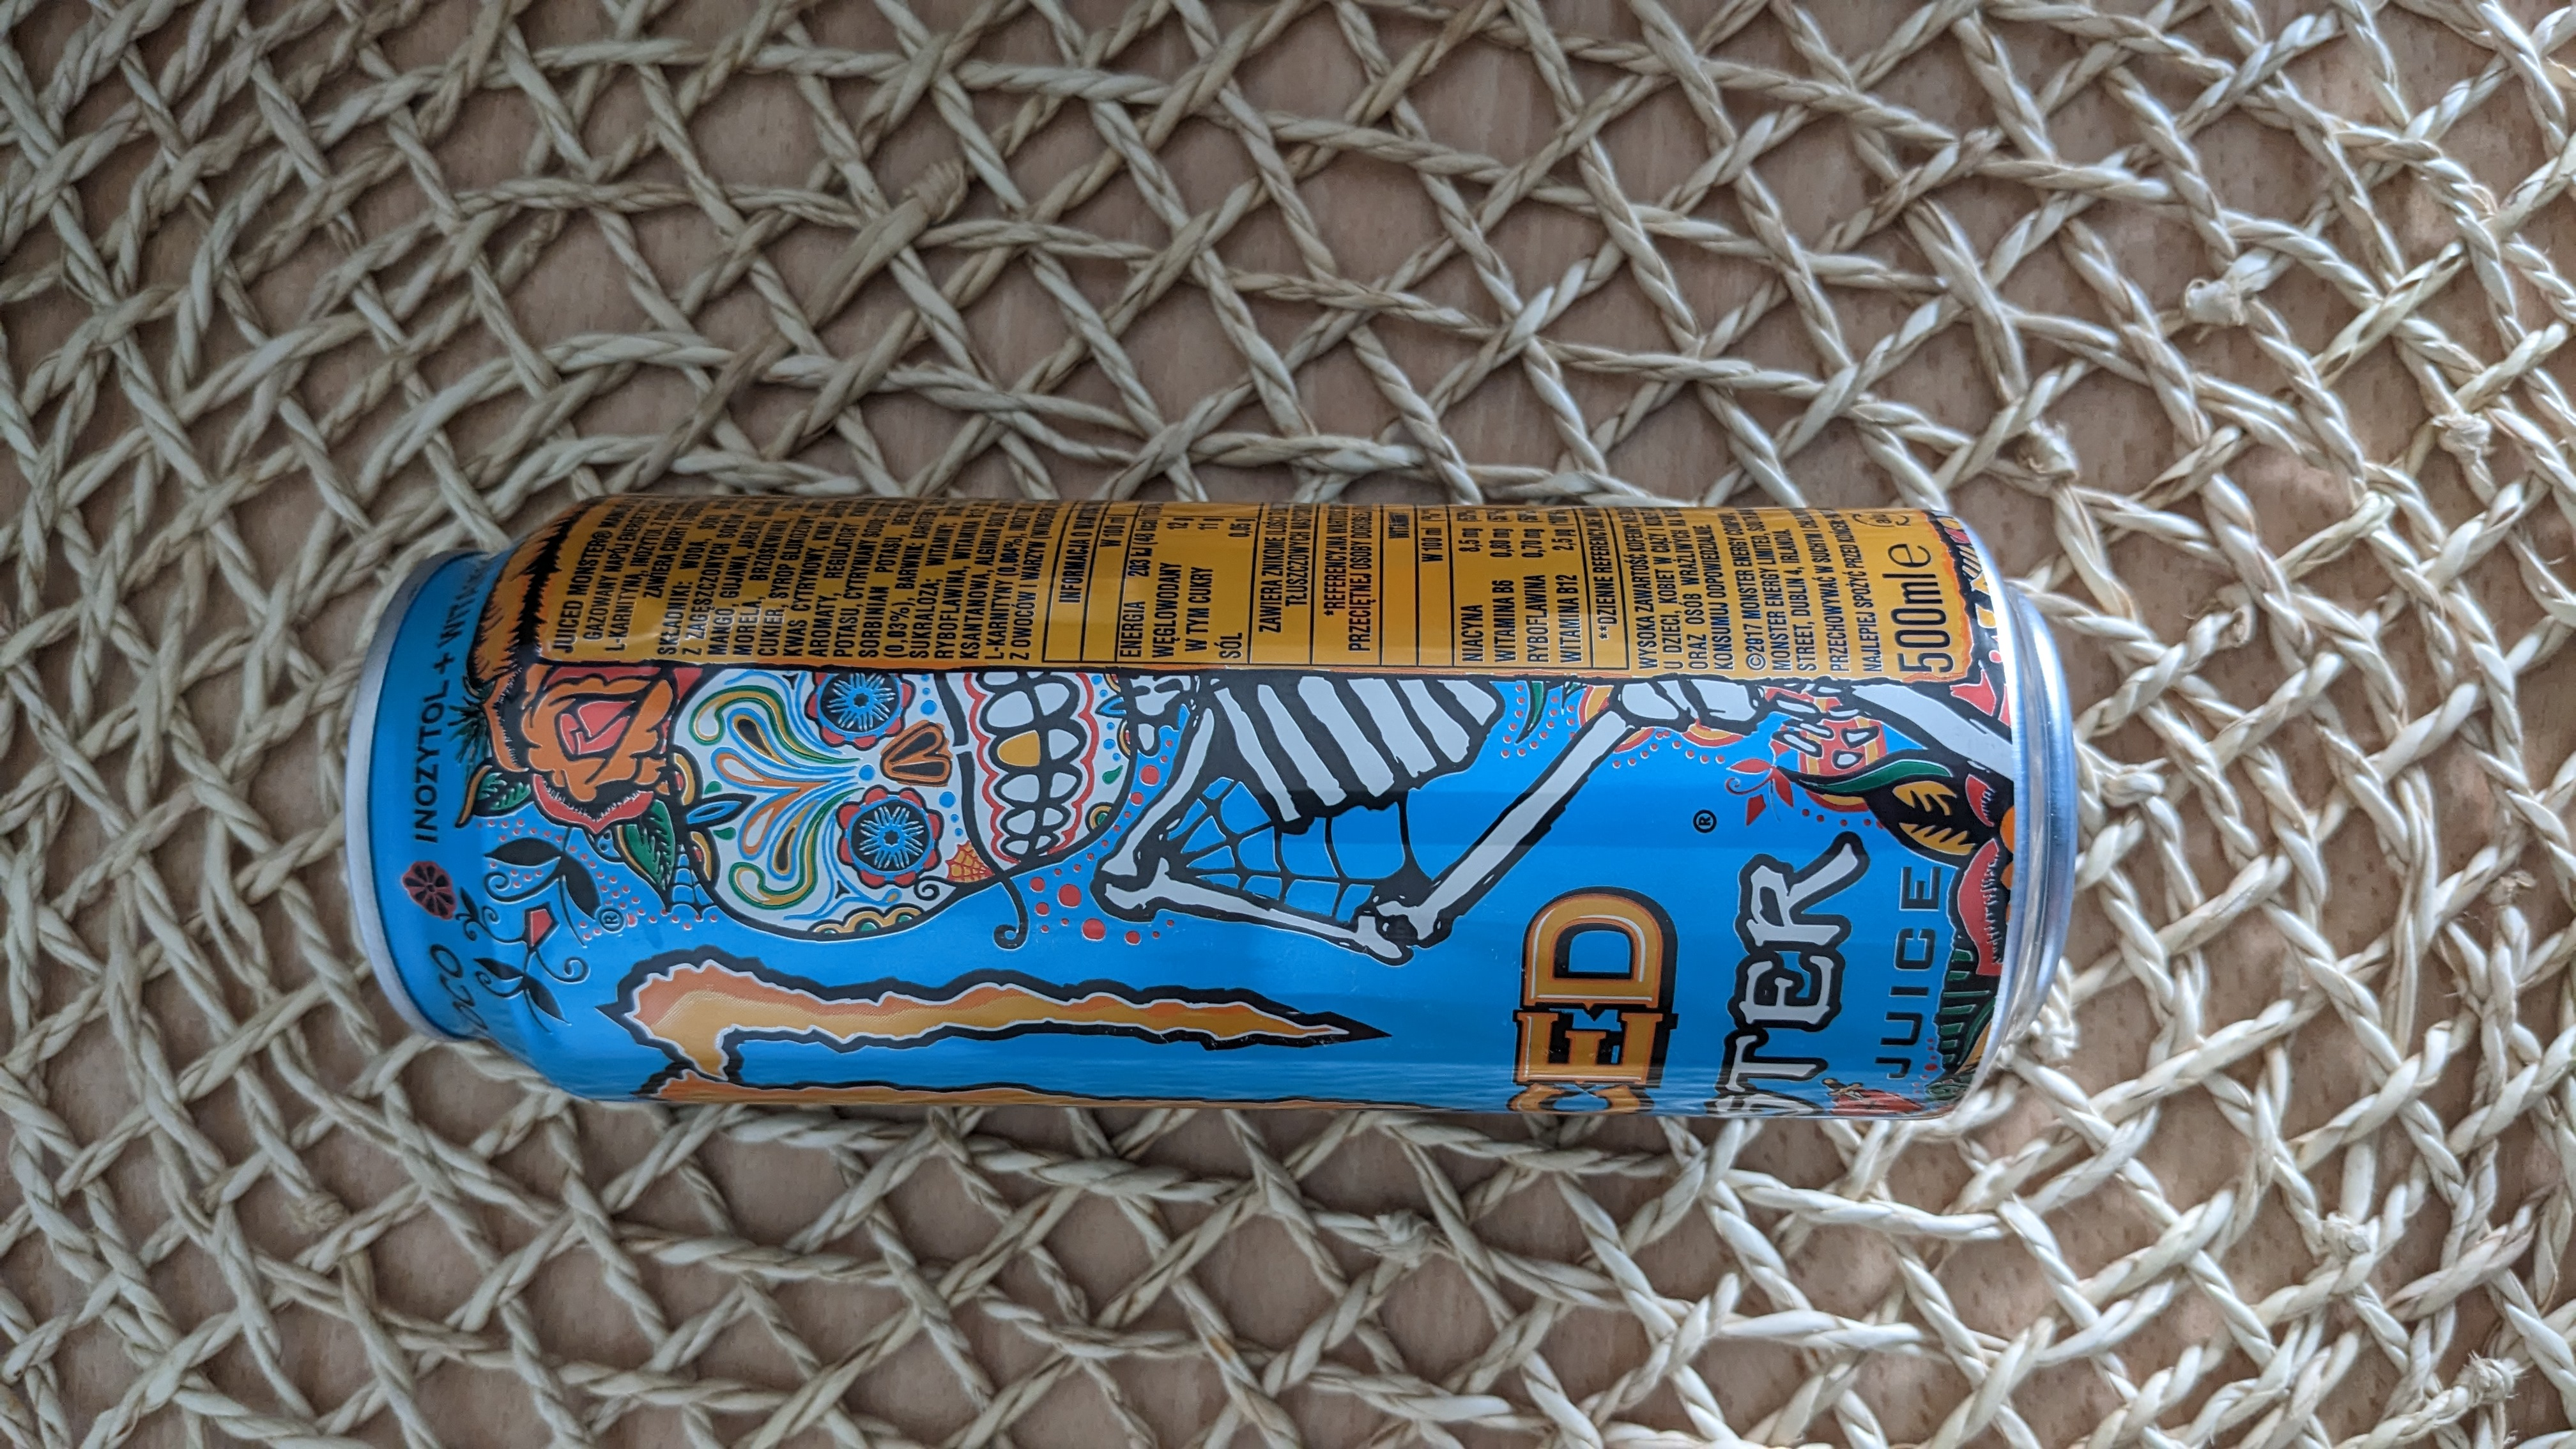monster: (288, 492, 2127, 1166)
